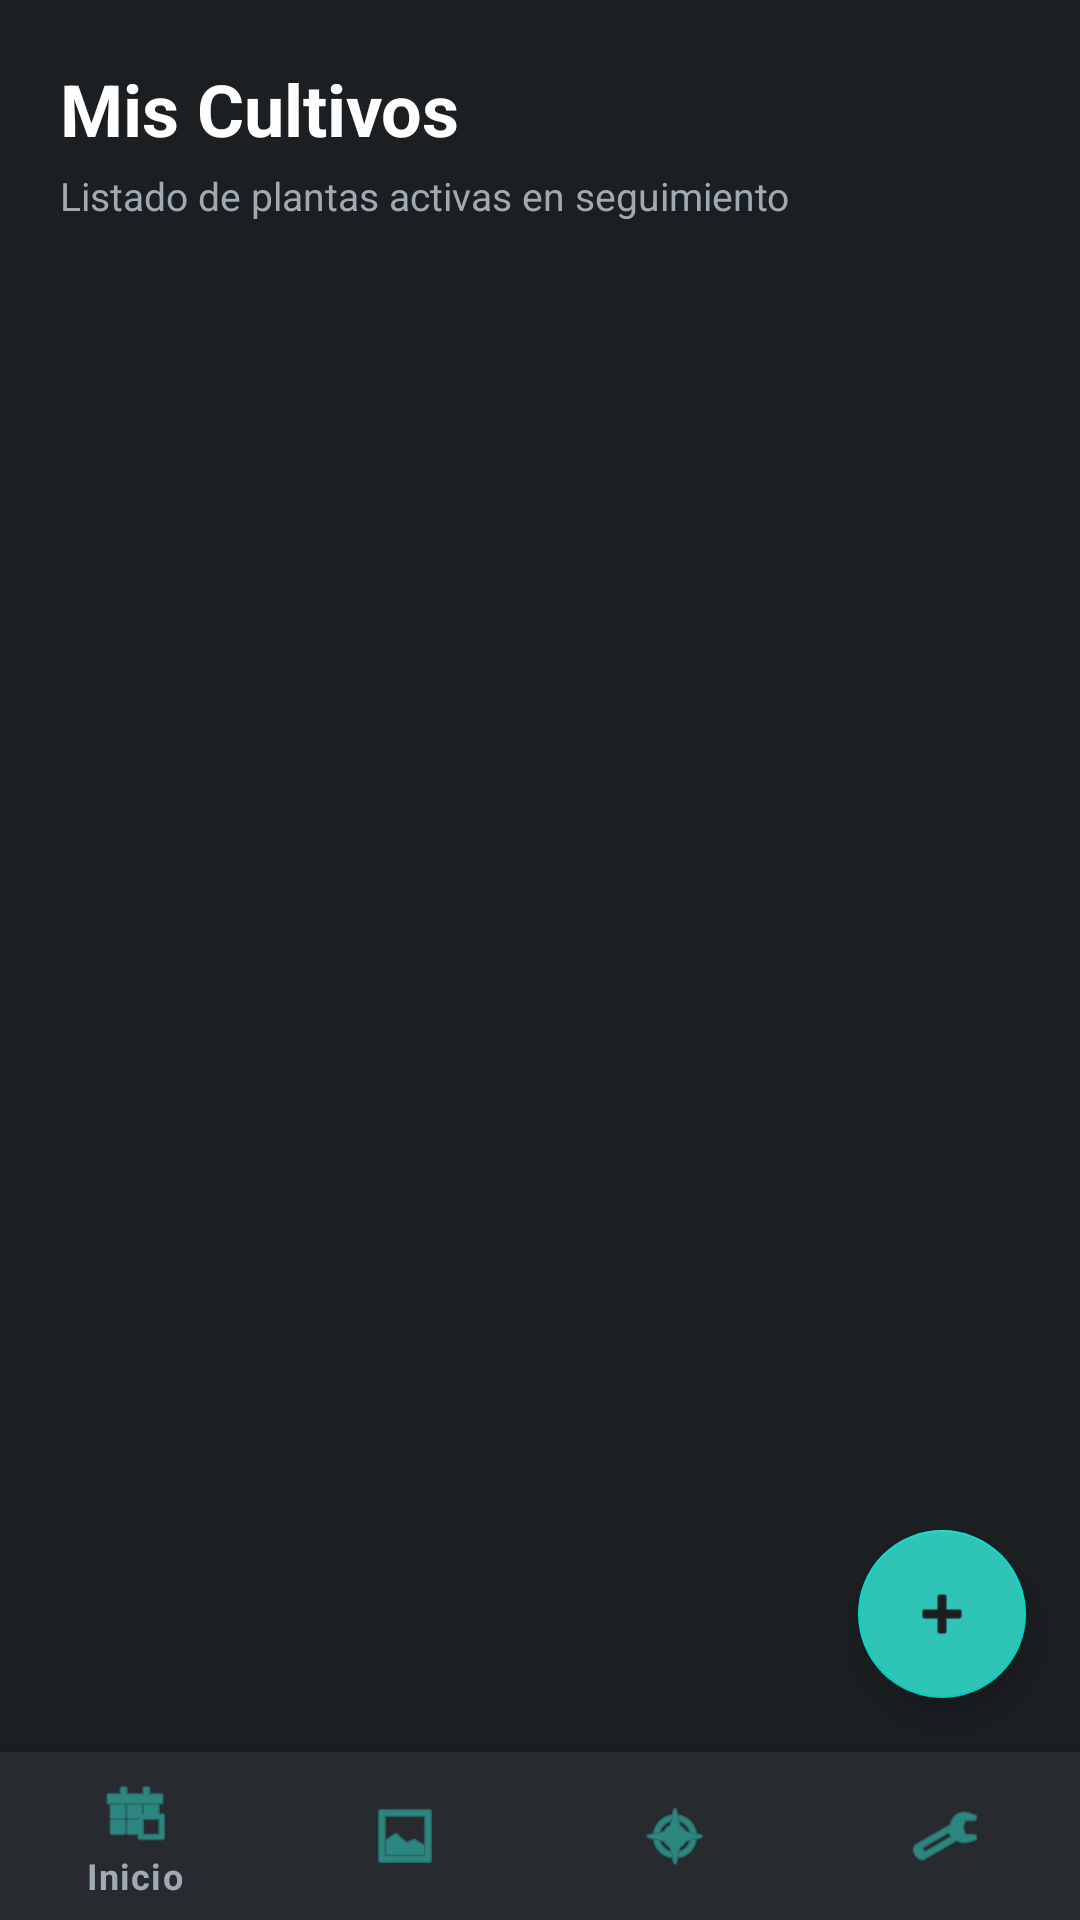

Icon bounding boxes for this 1080 × 1920 phone screenshot, format BBox(x1, y1, x2, y2):
Agregar Cultivo: BBox(858, 1530, 1026, 1698)
